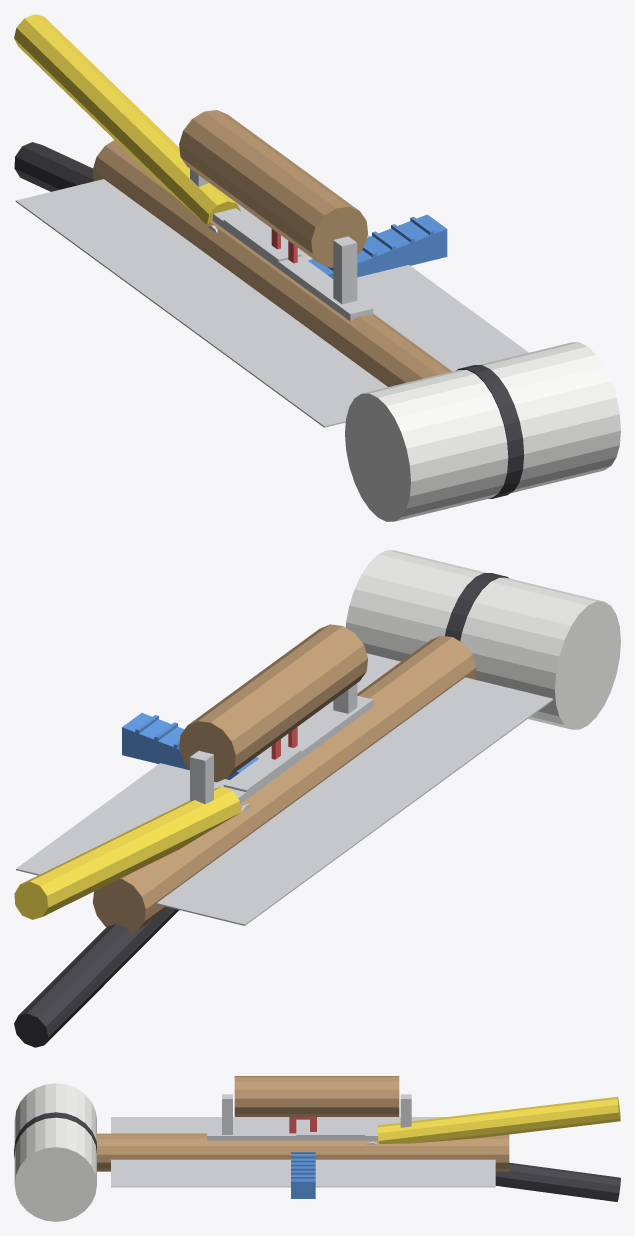
Rendered from laying_tools.glb.
The picture shows the model from 3 angles, top to bottom: view 1: azimuth 30°, elevation 25°; view 2: azimuth 150°, elevation 25°; view 3: azimuth 270°, elevation 25°; orthographic projection. The views are drawn at different scales.
Parts seen in each view (by area): view 1: Mallet_Head, Trowel_Notched_Plate, Trowel_Flat_Blade, Mallet_Handle, Trowel_Flat_Handle, SVP_Pliers_HandleA, SVP_Wedge_Ramp, Trowel_Notched, SVP_Pliers_HandleB, Trowel_Flat_Mount, Mallet_Ring, Trowel_Flat_Post1 (+1 smaller); view 2: Trowel_Flat_Blade, Mallet_Head, Trowel_Notched_Plate, Mallet_Handle, Trowel_Flat_Handle, SVP_Pliers_HandleA, SVP_Pliers_HandleB, Trowel_Notched, SVP_Wedge_Ramp, Trowel_Flat_Mount, SVP_Pliers_JawA, Mallet_Ring (+1 smaller); view 3: Trowel_Flat_Blade, Mallet_Head, Mallet_Handle, Trowel_Flat_Handle, SVP_Pliers_HandleA, SVP_Pliers_HandleB, Trowel_Notched_Plate, Trowel_Flat_Mount, SVP_Wedge_Ramp, Trowel_Notched, SVP_Pliers_JawA, Mallet_Ring (+2 smaller).
Boxes of the visible parts, x1=… form: Mallet_Head: x1=345, y1=342, x2=620, y2=521; Trowel_Notched_Plate: x1=35, y1=179, x2=509, y2=421; Trowel_Flat_Blade: x1=15, y1=179, x2=528, y2=427; Mallet_Handle: x1=92, y1=140, x2=451, y2=386; Trowel_Flat_Handle: x1=179, y1=110, x2=367, y2=267; SVP_Pliers_HandleA: x1=14, y1=14, x2=240, y2=225; SVP_Wedge_Ramp: x1=308, y1=214, x2=447, y2=278; Trowel_Notched: x1=16, y1=196, x2=519, y2=417; SVP_Pliers_HandleB: x1=14, y1=142, x2=93, y2=191; Trowel_Flat_Mount: x1=212, y1=208, x2=373, y2=321; Mallet_Ring: x1=456, y1=365, x2=524, y2=498; Trowel_Flat_Post1: x1=333, y1=236, x2=357, y2=304; Trowel_Flat_Blade: x1=16, y1=653, x2=553, y2=925; Mallet_Head: x1=345, y1=550, x2=620, y2=729; Trowel_Notched_Plate: x1=38, y1=653, x2=530, y2=920; Mallet_Handle: x1=92, y1=635, x2=476, y2=933; Trowel_Flat_Handle: x1=179, y1=624, x2=367, y2=782; SVP_Pliers_HandleA: x1=14, y1=786, x2=240, y2=919; SVP_Pliers_HandleB: x1=14, y1=907, x2=178, y2=1047; Trowel_Notched: x1=16, y1=704, x2=536, y2=925; SVP_Wedge_Ramp: x1=122, y1=713, x2=258, y2=779; Trowel_Flat_Mount: x1=225, y1=695, x2=373, y2=803; SVP_Pliers_JawA: x1=223, y1=745, x2=301, y2=792; Mallet_Ring: x1=445, y1=573, x2=509, y2=641; Trowel_Flat_Blade: x1=111, y1=1117, x2=495, y2=1187; Mallet_Head: x1=14, y1=1083, x2=96, y2=1221; Mallet_Handle: x1=97, y1=1133, x2=509, y2=1171; Trowel_Flat_Handle: x1=234, y1=1076, x2=399, y2=1116; SVP_Pliers_HandleA: x1=377, y1=1096, x2=620, y2=1143; SVP_Pliers_HandleB: x1=495, y1=1162, x2=620, y2=1201; Trowel_Notched_Plate: x1=111, y1=1122, x2=495, y2=1180; Trowel_Flat_Mount: x1=207, y1=1129, x2=378, y2=1140; SVP_Wedge_Ramp: x1=291, y1=1154, x2=315, y2=1198; Trowel_Notched: x1=125, y1=1117, x2=494, y2=1187; SVP_Pliers_JawA: x1=296, y1=1128, x2=364, y2=1140; Mallet_Ring: x1=14, y1=1112, x2=96, y2=1157.
Size of the model in its own units: 0.14 by 0.0987 by 0.4418.
